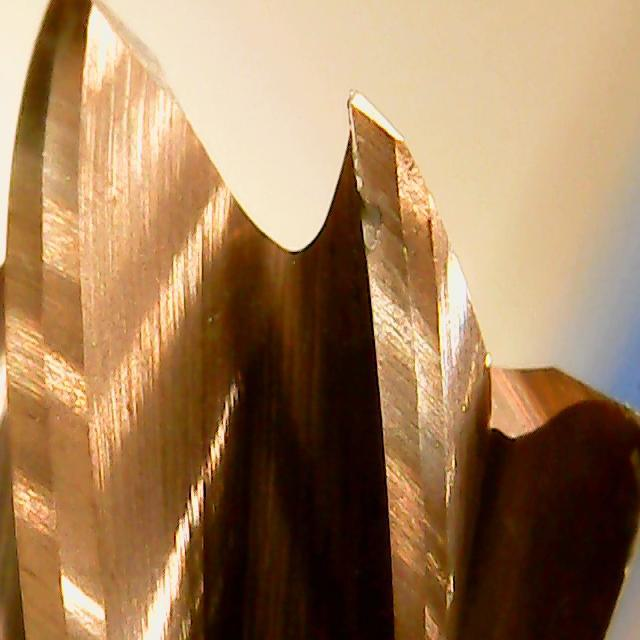Tool-wear-class-1: (323, 89, 476, 394)
